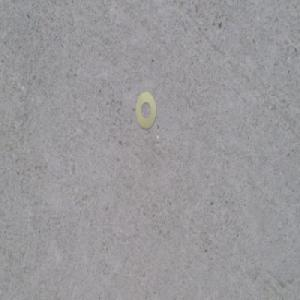Washer: (135, 93, 157, 134)
